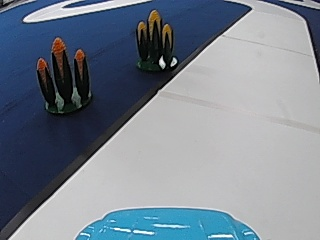corn: (35, 36, 95, 114), (133, 7, 177, 72)
